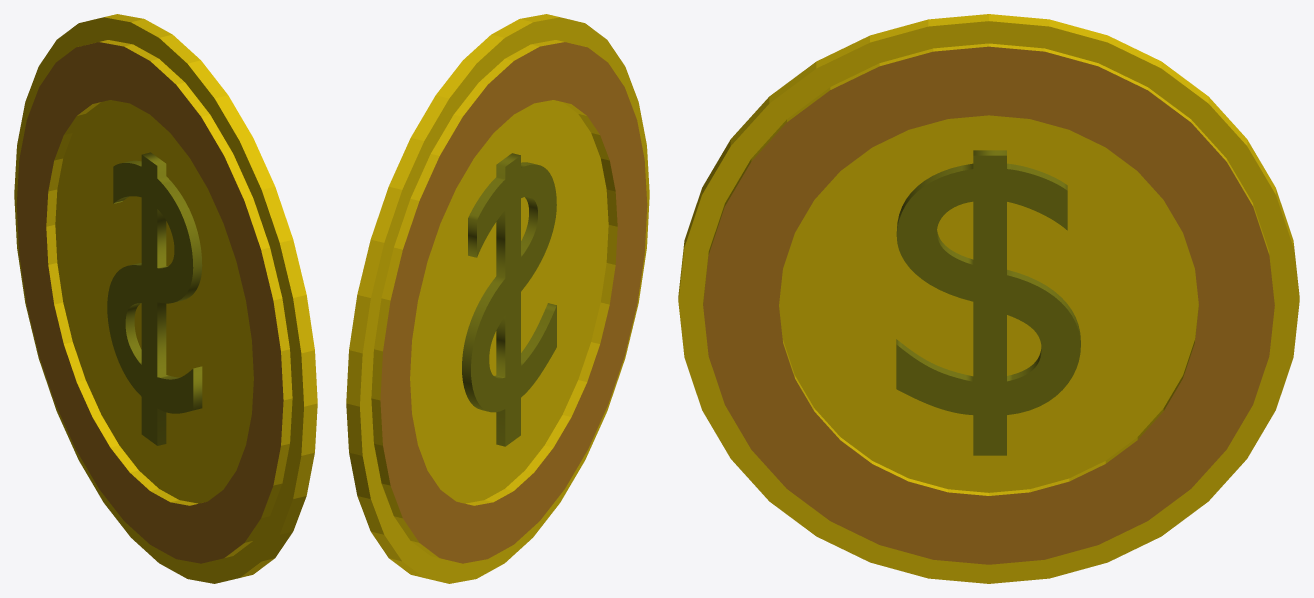
Rendered from coin.fbx.
3 views of the same model, side by side, from view 1: azimuth 30°, elevation 25°; view 2: azimuth 150°, elevation 25°; view 3: azimuth 270°, elevation 25° (orthographic). The views are drawn at different scales.
Visible parts, largest first — view 1: Circle, Metin; view 2: Circle, Metin; view 3: Circle, Metin.
Part boxes in pixels (x1,y1,x2,y2): Circle: (14, 14, 317, 583); Metin: (107, 152, 202, 445); Circle: (346, 14, 649, 583); Metin: (462, 153, 556, 446); Circle: (678, 14, 1299, 583); Metin: (896, 150, 1080, 455).
Size of the model in its own units: 2.18 by 33.1 by 33.1.
